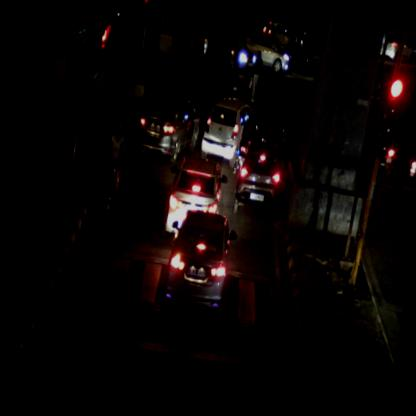car: (158, 207, 237, 318), (160, 154, 230, 246), (132, 87, 202, 166), (230, 139, 284, 217), (198, 94, 254, 169), (199, 29, 257, 74), (241, 32, 293, 74), (378, 32, 415, 66), (262, 20, 296, 50)
motorcycle: (380, 119, 405, 187), (403, 121, 415, 191)
